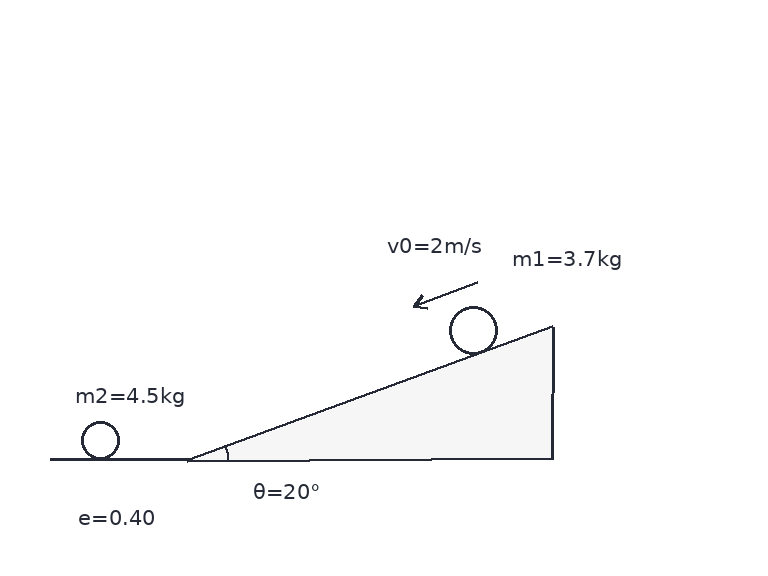ball: (447, 304, 499, 356), (79, 419, 121, 461)
ramp: (186, 324, 555, 461)
